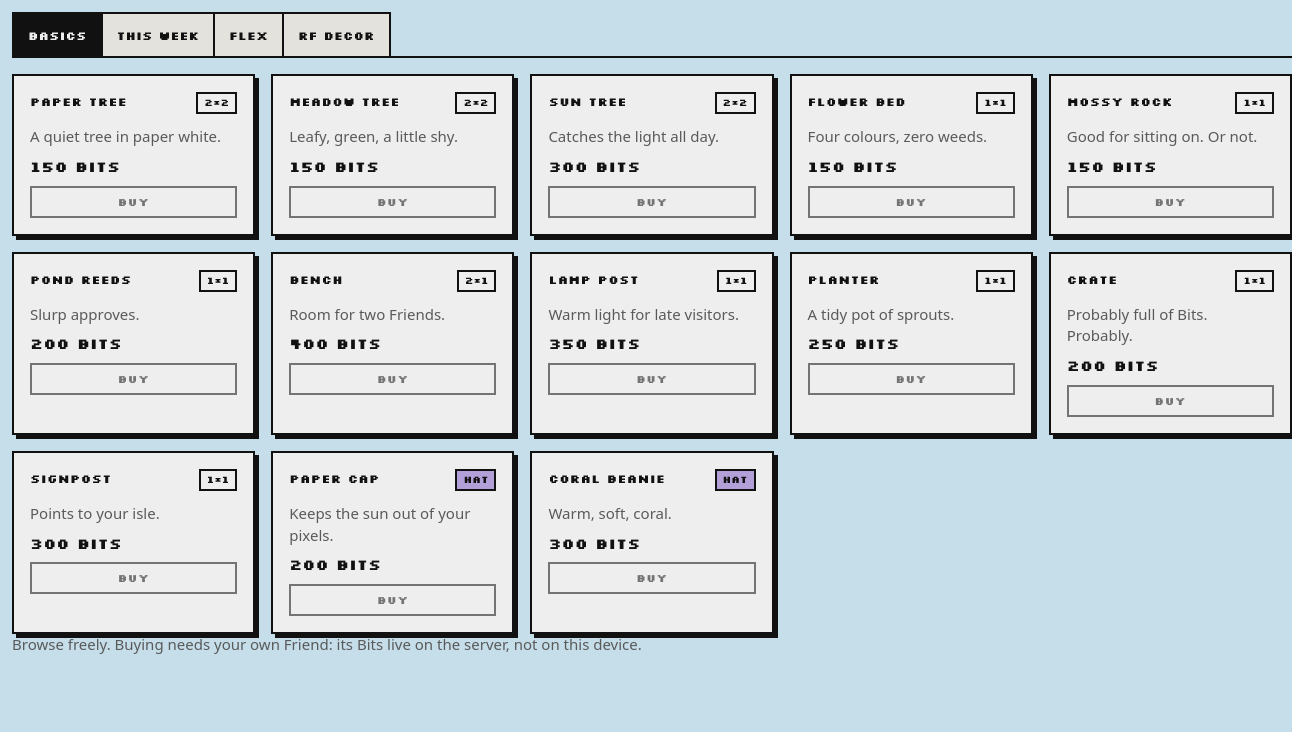
Test: Catalog › shows locks on the flex shelf and lets guests browse only
The width and height of the screenshot is (1292, 732).
Check: the text "Buying needs your own Friend" is shown, box [12,634,642,654]
Step 1. Click the tab "flex" → {"x": 248, "y": 34}, box [213,12,284,56]
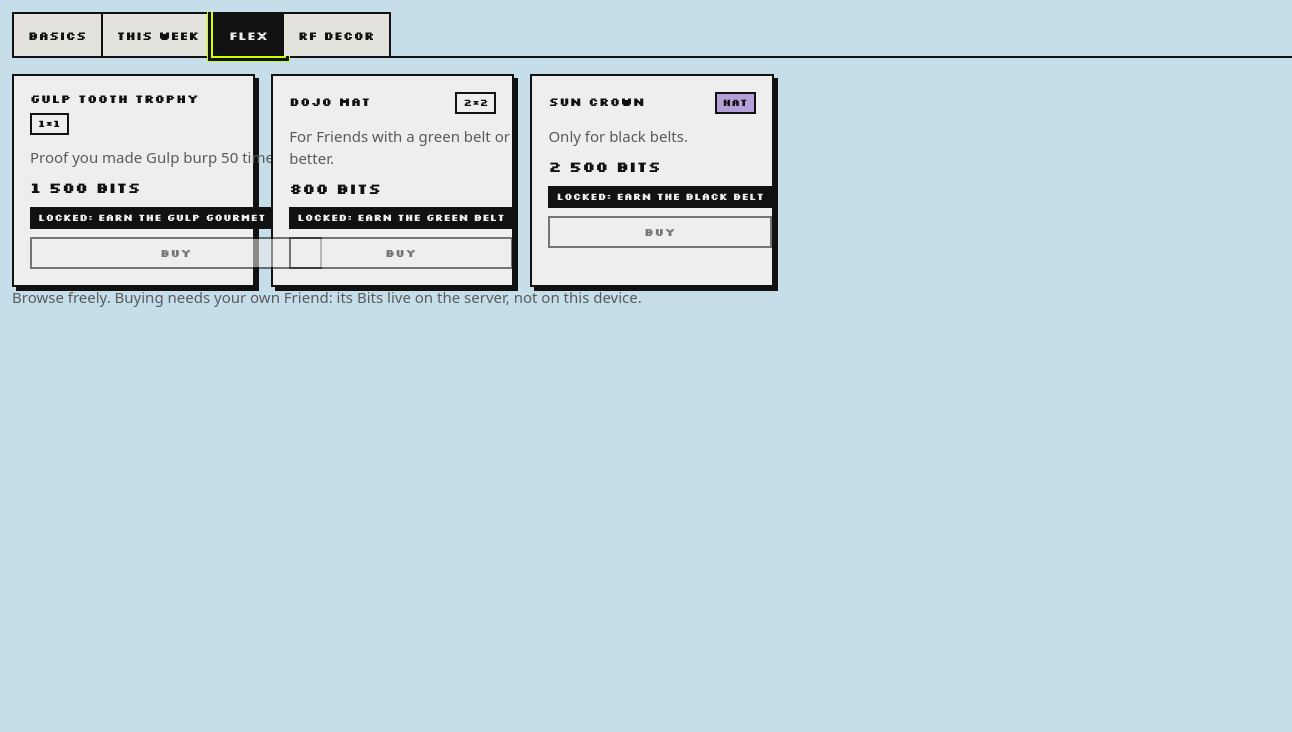
Check: the button "buy " below "earn the Gulp Gourmet stamp" is disabled, box [30,237,322,269]
Check: the text "locked: earn the black belt" is shown, box [548,186,772,208]
